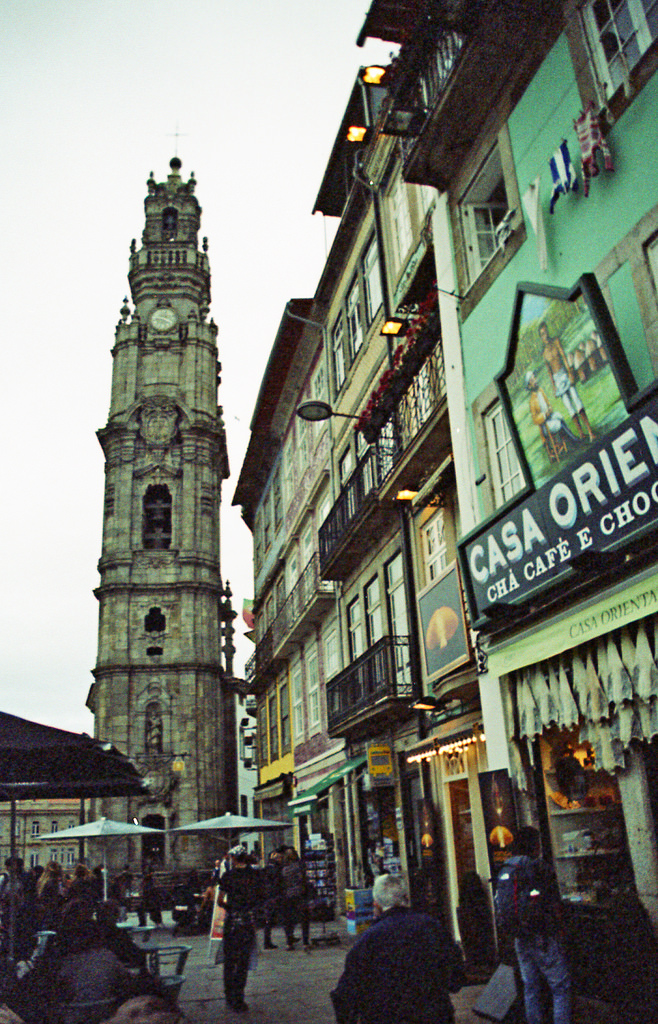clerigos: (82, 117, 233, 883)
